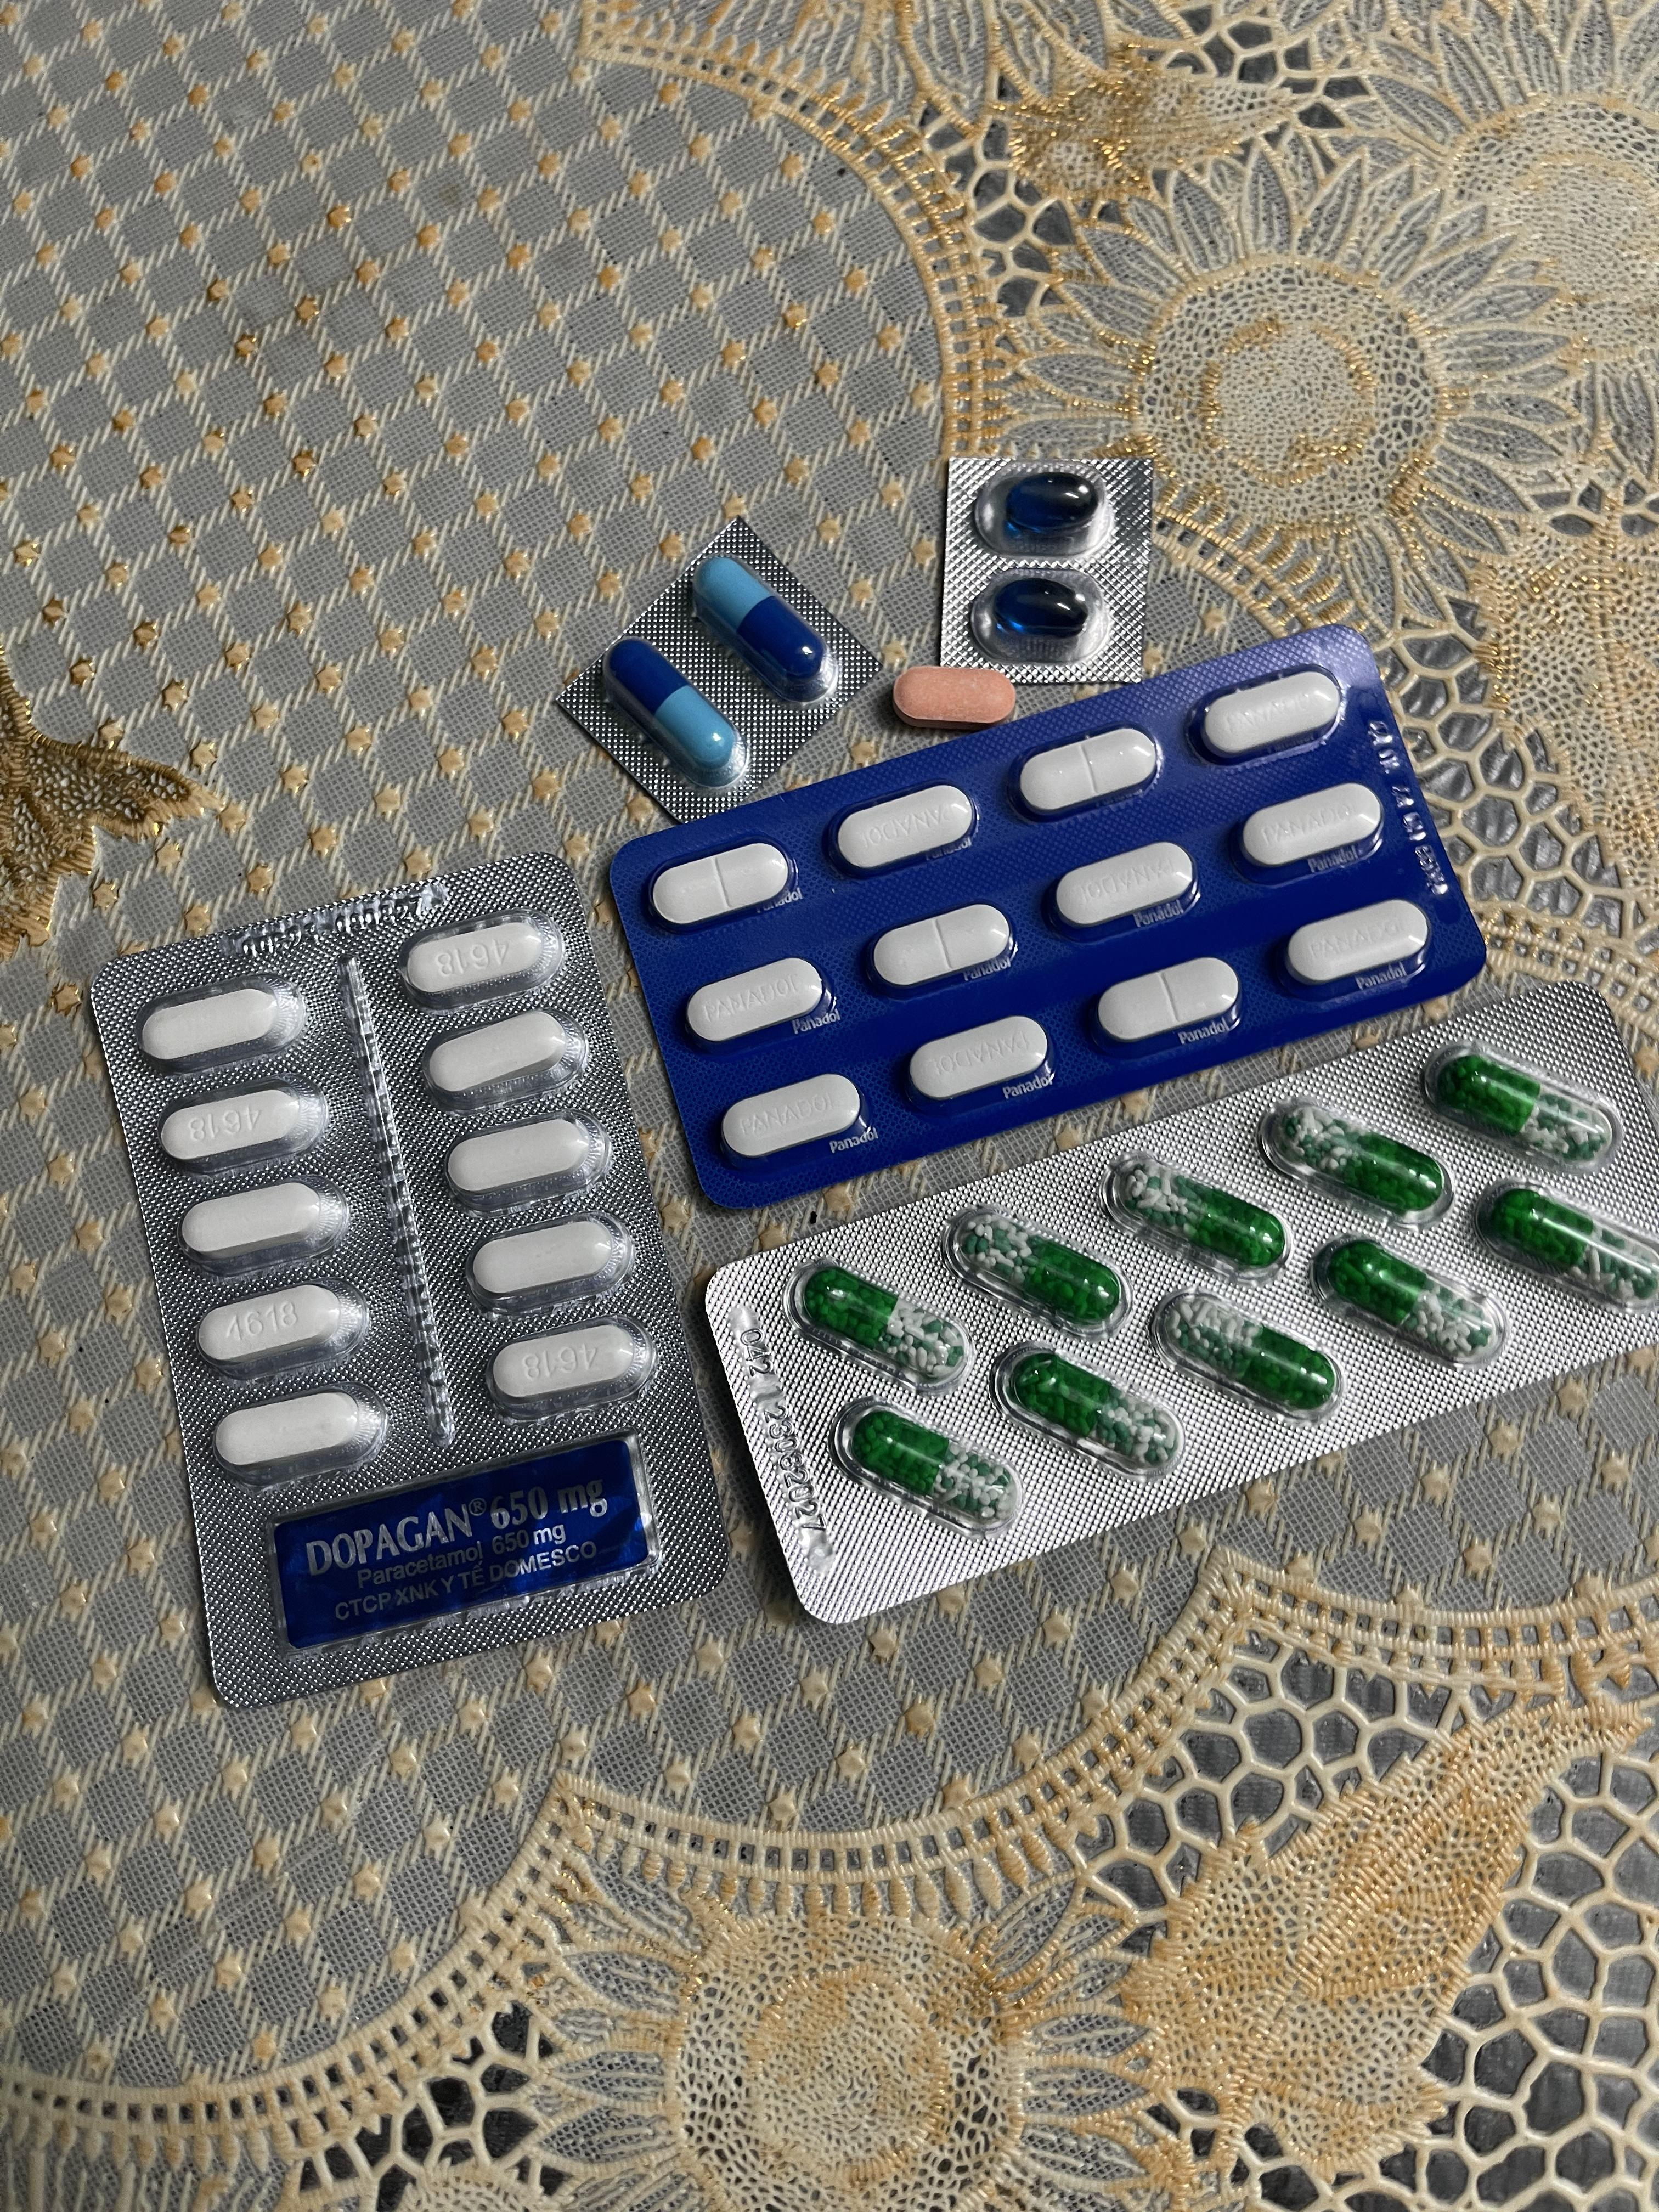Lincomyxin_500mg: (1004, 474, 1100, 536), (993, 577, 1091, 637)
Loratadine_10mg: (892, 667, 1014, 730)
Paracetamol_350mg: (1091, 956, 1239, 1054), (1284, 899, 1436, 993), (868, 904, 1019, 998), (1049, 840, 1197, 935), (1237, 780, 1385, 876), (904, 1015, 1051, 1111), (1016, 728, 1162, 820), (1197, 669, 1345, 759), (685, 956, 826, 1047), (833, 786, 976, 874), (721, 1071, 864, 1158), (650, 843, 791, 930)
Paracetamol_500mg: (176, 1179, 354, 1271), (441, 1125, 620, 1216), (197, 1280, 369, 1374), (213, 1390, 390, 1480), (159, 1082, 335, 1169), (418, 1010, 582, 1103), (464, 1217, 629, 1308), (488, 1320, 653, 1407), (139, 982, 305, 1068), (401, 914, 561, 1000)
Paracetamol_650mg: (800, 1266, 967, 1385), (1323, 1240, 1495, 1353), (850, 1411, 1014, 1521), (1162, 1306, 1333, 1411), (1488, 1193, 1652, 1298), (1439, 1059, 1610, 1158), (1281, 1109, 1445, 1211), (1009, 1355, 1171, 1456), (1112, 1170, 1279, 1266), (978, 1228, 1126, 1318)
pill: (605, 636, 746, 787), (697, 550, 828, 695)
